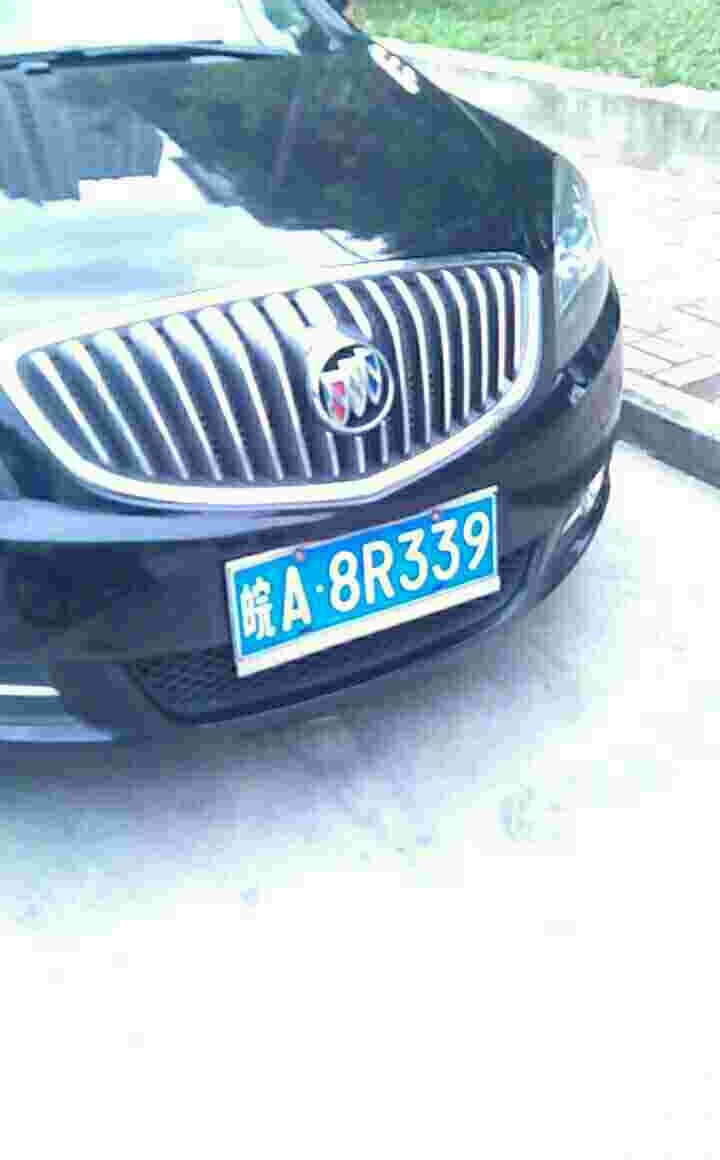license_plate: (225, 491, 504, 659)
